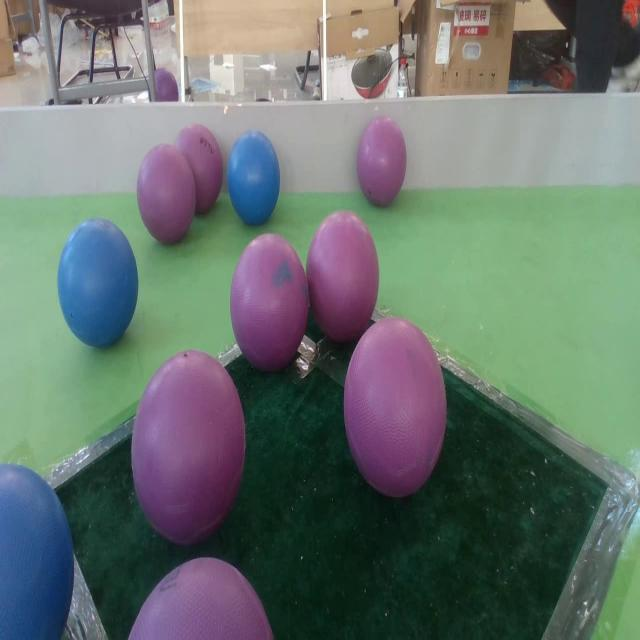blue: (0, 464, 69, 640), (57, 218, 140, 350), (228, 125, 281, 227)
invalid: (132, 350, 245, 538), (341, 313, 442, 496), (126, 550, 279, 640), (232, 232, 306, 366), (306, 214, 381, 341), (136, 145, 198, 243), (357, 117, 407, 209), (173, 125, 220, 212)
